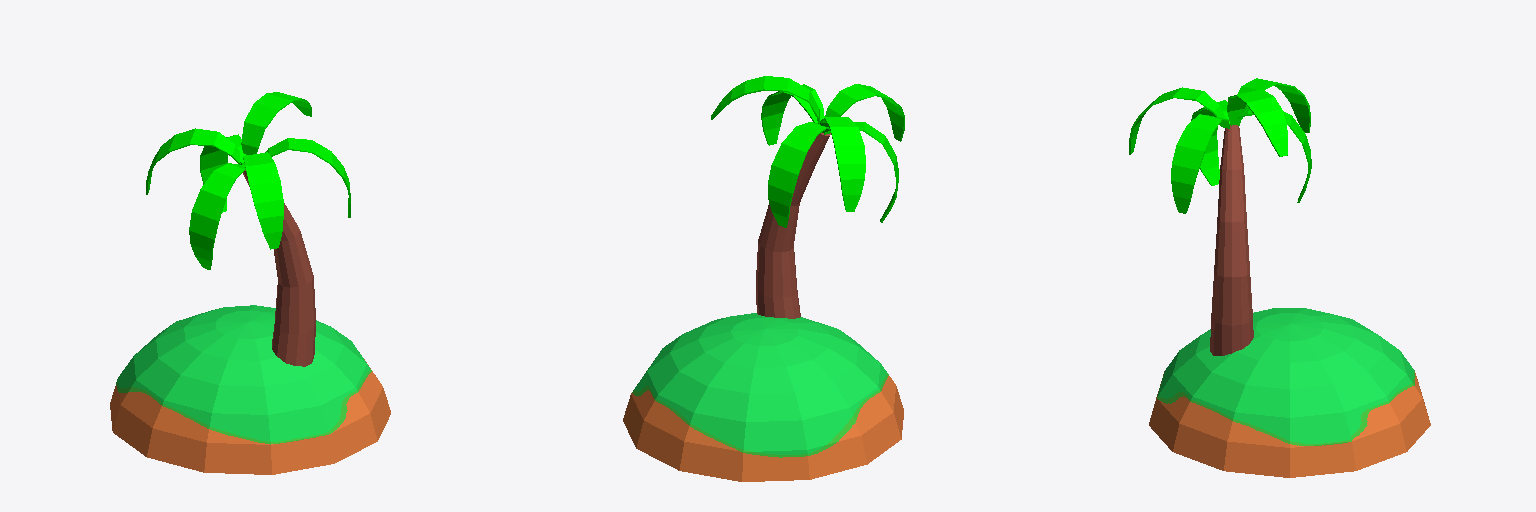
3 views of the same model, side by side, from view 1: azimuth 30°, elevation 25°; view 2: azimuth 150°, elevation 25°; view 3: azimuth 270°, elevation 25° (orthographic).
Visible parts, largest first — view 1: pSphere1, pCylinder2, pasted__pasted__pCube1 pasted__group group4, pasted__pCube1 group1, pCube1, pasted__pCube1 group, pasted__pCube1 group2, pasted__pCube1 group3; view 2: pSphere1, pCylinder2, pasted__pCube1 group3, pasted__pCube1 group, pasted__pCube1 group1, pCube1, pasted__pCube1 group2, pasted__pasted__pCube1 pasted__group group4; view 3: pSphere1, pCylinder2, pasted__pCube1 group2, pCube1, pasted__pCube1 group, pasted__pCube1 group1, pasted__pasted__pCube1 pasted__group group4, pasted__pCube1 group3.
Boxes of the visible parts, x1=… form: pSphere1: x1=110, y1=305, x2=390, y2=474; pCylinder2: x1=243, y1=170, x2=315, y2=366; pasted__pasted__pCube1 pasted__group group4: x1=189, y1=163, x2=245, y2=269; pasted__pCube1 group1: x1=243, y1=152, x2=283, y2=249; pCube1: x1=241, y1=92, x2=311, y2=154; pasted__pCube1 group: x1=146, y1=128, x2=243, y2=194; pasted__pCube1 group2: x1=265, y1=138, x2=350, y2=217; pasted__pCube1 group3: x1=200, y1=134, x2=245, y2=212; pSphere1: x1=623, y1=313, x2=903, y2=481; pCylinder2: x1=756, y1=133, x2=830, y2=318; pasted__pCube1 group3: x1=768, y1=122, x2=829, y2=227; pasted__pCube1 group: x1=820, y1=117, x2=865, y2=211; pasted__pCube1 group1: x1=825, y1=84, x2=904, y2=141; pCube1: x1=711, y1=76, x2=819, y2=123; pasted__pCube1 group2: x1=761, y1=84, x2=824, y2=145; pasted__pasted__pCube1 pasted__group group4: x1=824, y1=122, x2=898, y2=222; pSphere1: x1=1149, y1=308, x2=1430, y2=477; pCylinder2: x1=1210, y1=125, x2=1253, y2=355; pasted__pCube1 group2: x1=1171, y1=114, x2=1229, y2=213; pCube1: x1=1227, y1=89, x2=1287, y2=156; pasted__pCube1 group: x1=1238, y1=78, x2=1310, y2=132; pasted__pCube1 group1: x1=1129, y1=87, x2=1225, y2=154; pasted__pasted__pCube1 pasted__group group4: x1=1191, y1=100, x2=1229, y2=185; pasted__pCube1 group3: x1=1237, y1=108, x2=1311, y2=202.
Size of the model in its own units: 3.11 by 3.98 by 3.35.
Materials: 8 (1 with a texture image).